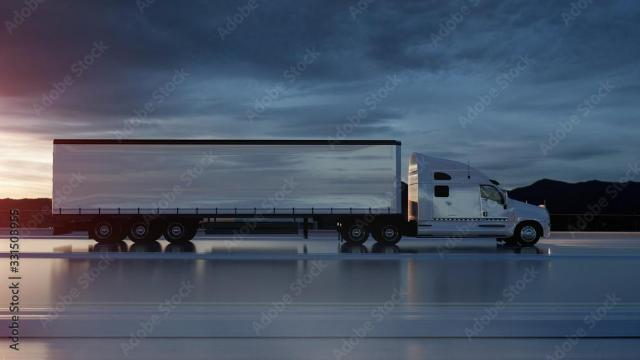truck: (35, 130, 566, 263)
